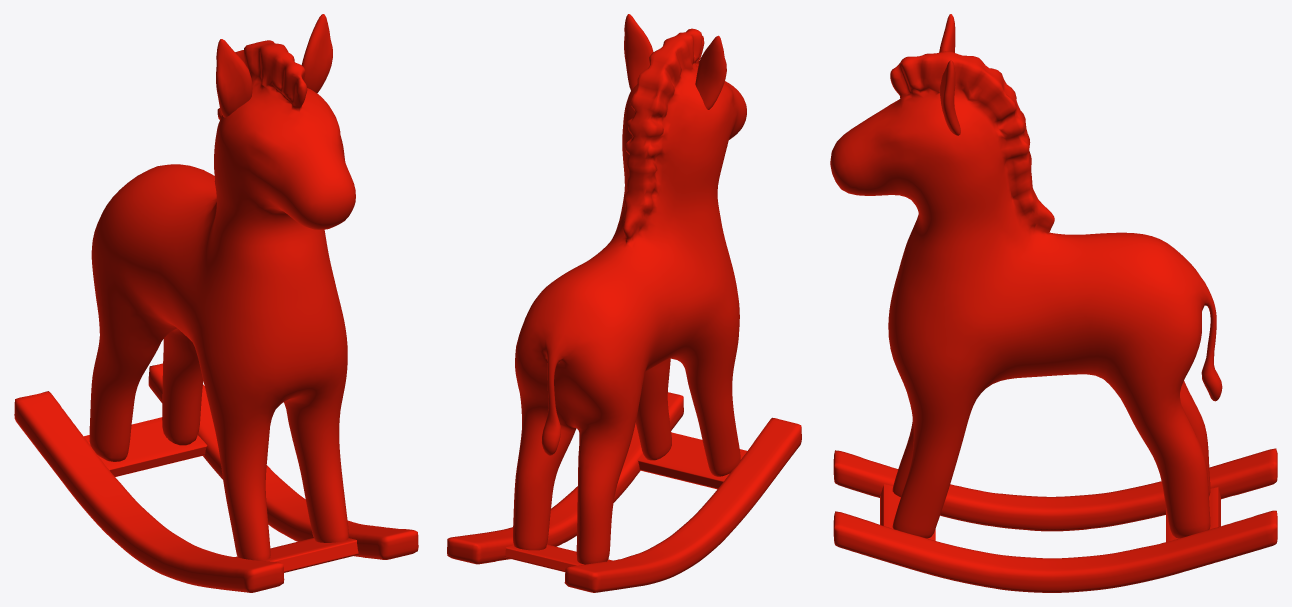
Rendered from zEBRA.fbx.
3 renders of one model, left to right at view 1: azimuth 30°, elevation 25°; view 2: azimuth 150°, elevation 25°; view 3: azimuth 270°, elevation 25°, orthographic. The views are drawn at different scales.
Visible parts, largest first — view 1: PM3D_Cube3D2_SeamsColor; view 2: PM3D_Cube3D2_SeamsColor; view 3: PM3D_Cube3D2_SeamsColor.
Boxes of the visible parts, x1,y1,x2,y2 form: PM3D_Cube3D2_SeamsColor: (14, 14, 418, 592); PM3D_Cube3D2_SeamsColor: (447, 14, 801, 592); PM3D_Cube3D2_SeamsColor: (830, 14, 1277, 592).
Size of the model in its own units: 118 by 363 by 284.
